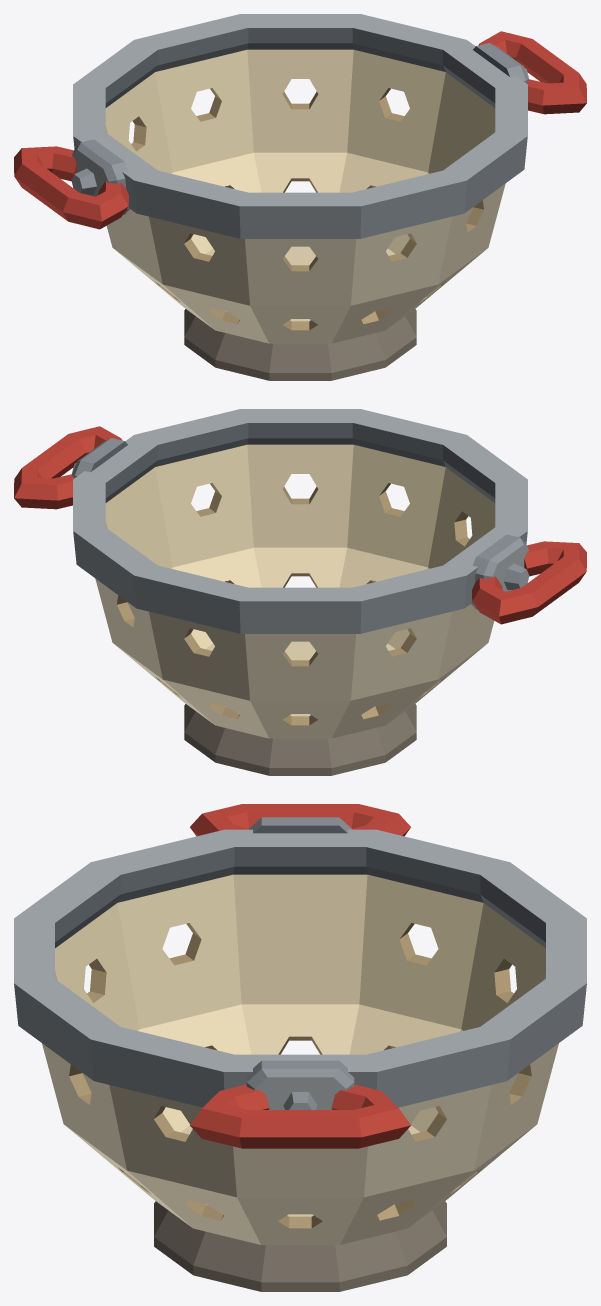
The model's file is FMS_Workshop_TOL_04.fbx.
The picture shows the model from 3 angles, top to bottom: view 1: azimuth 30°, elevation 25°; view 2: azimuth 150°, elevation 25°; view 3: azimuth 270°, elevation 25°; orthographic projection. The views are drawn at different scales.
Parts seen in each view (by area): view 1: FMS_Workshop_TOL_04_Body; view 2: FMS_Workshop_TOL_04_Body; view 3: FMS_Workshop_TOL_04_Body.
Boxes of the visible parts, left/top/right/bottom form: FMS_Workshop_TOL_04_Body: left=14, top=14, right=586, bottom=380; FMS_Workshop_TOL_04_Body: left=14, top=409, right=586, bottom=775; FMS_Workshop_TOL_04_Body: left=14, top=804, right=586, bottom=1291.
Size of the model in its own units: 0.354 by 0.147 by 0.266.
